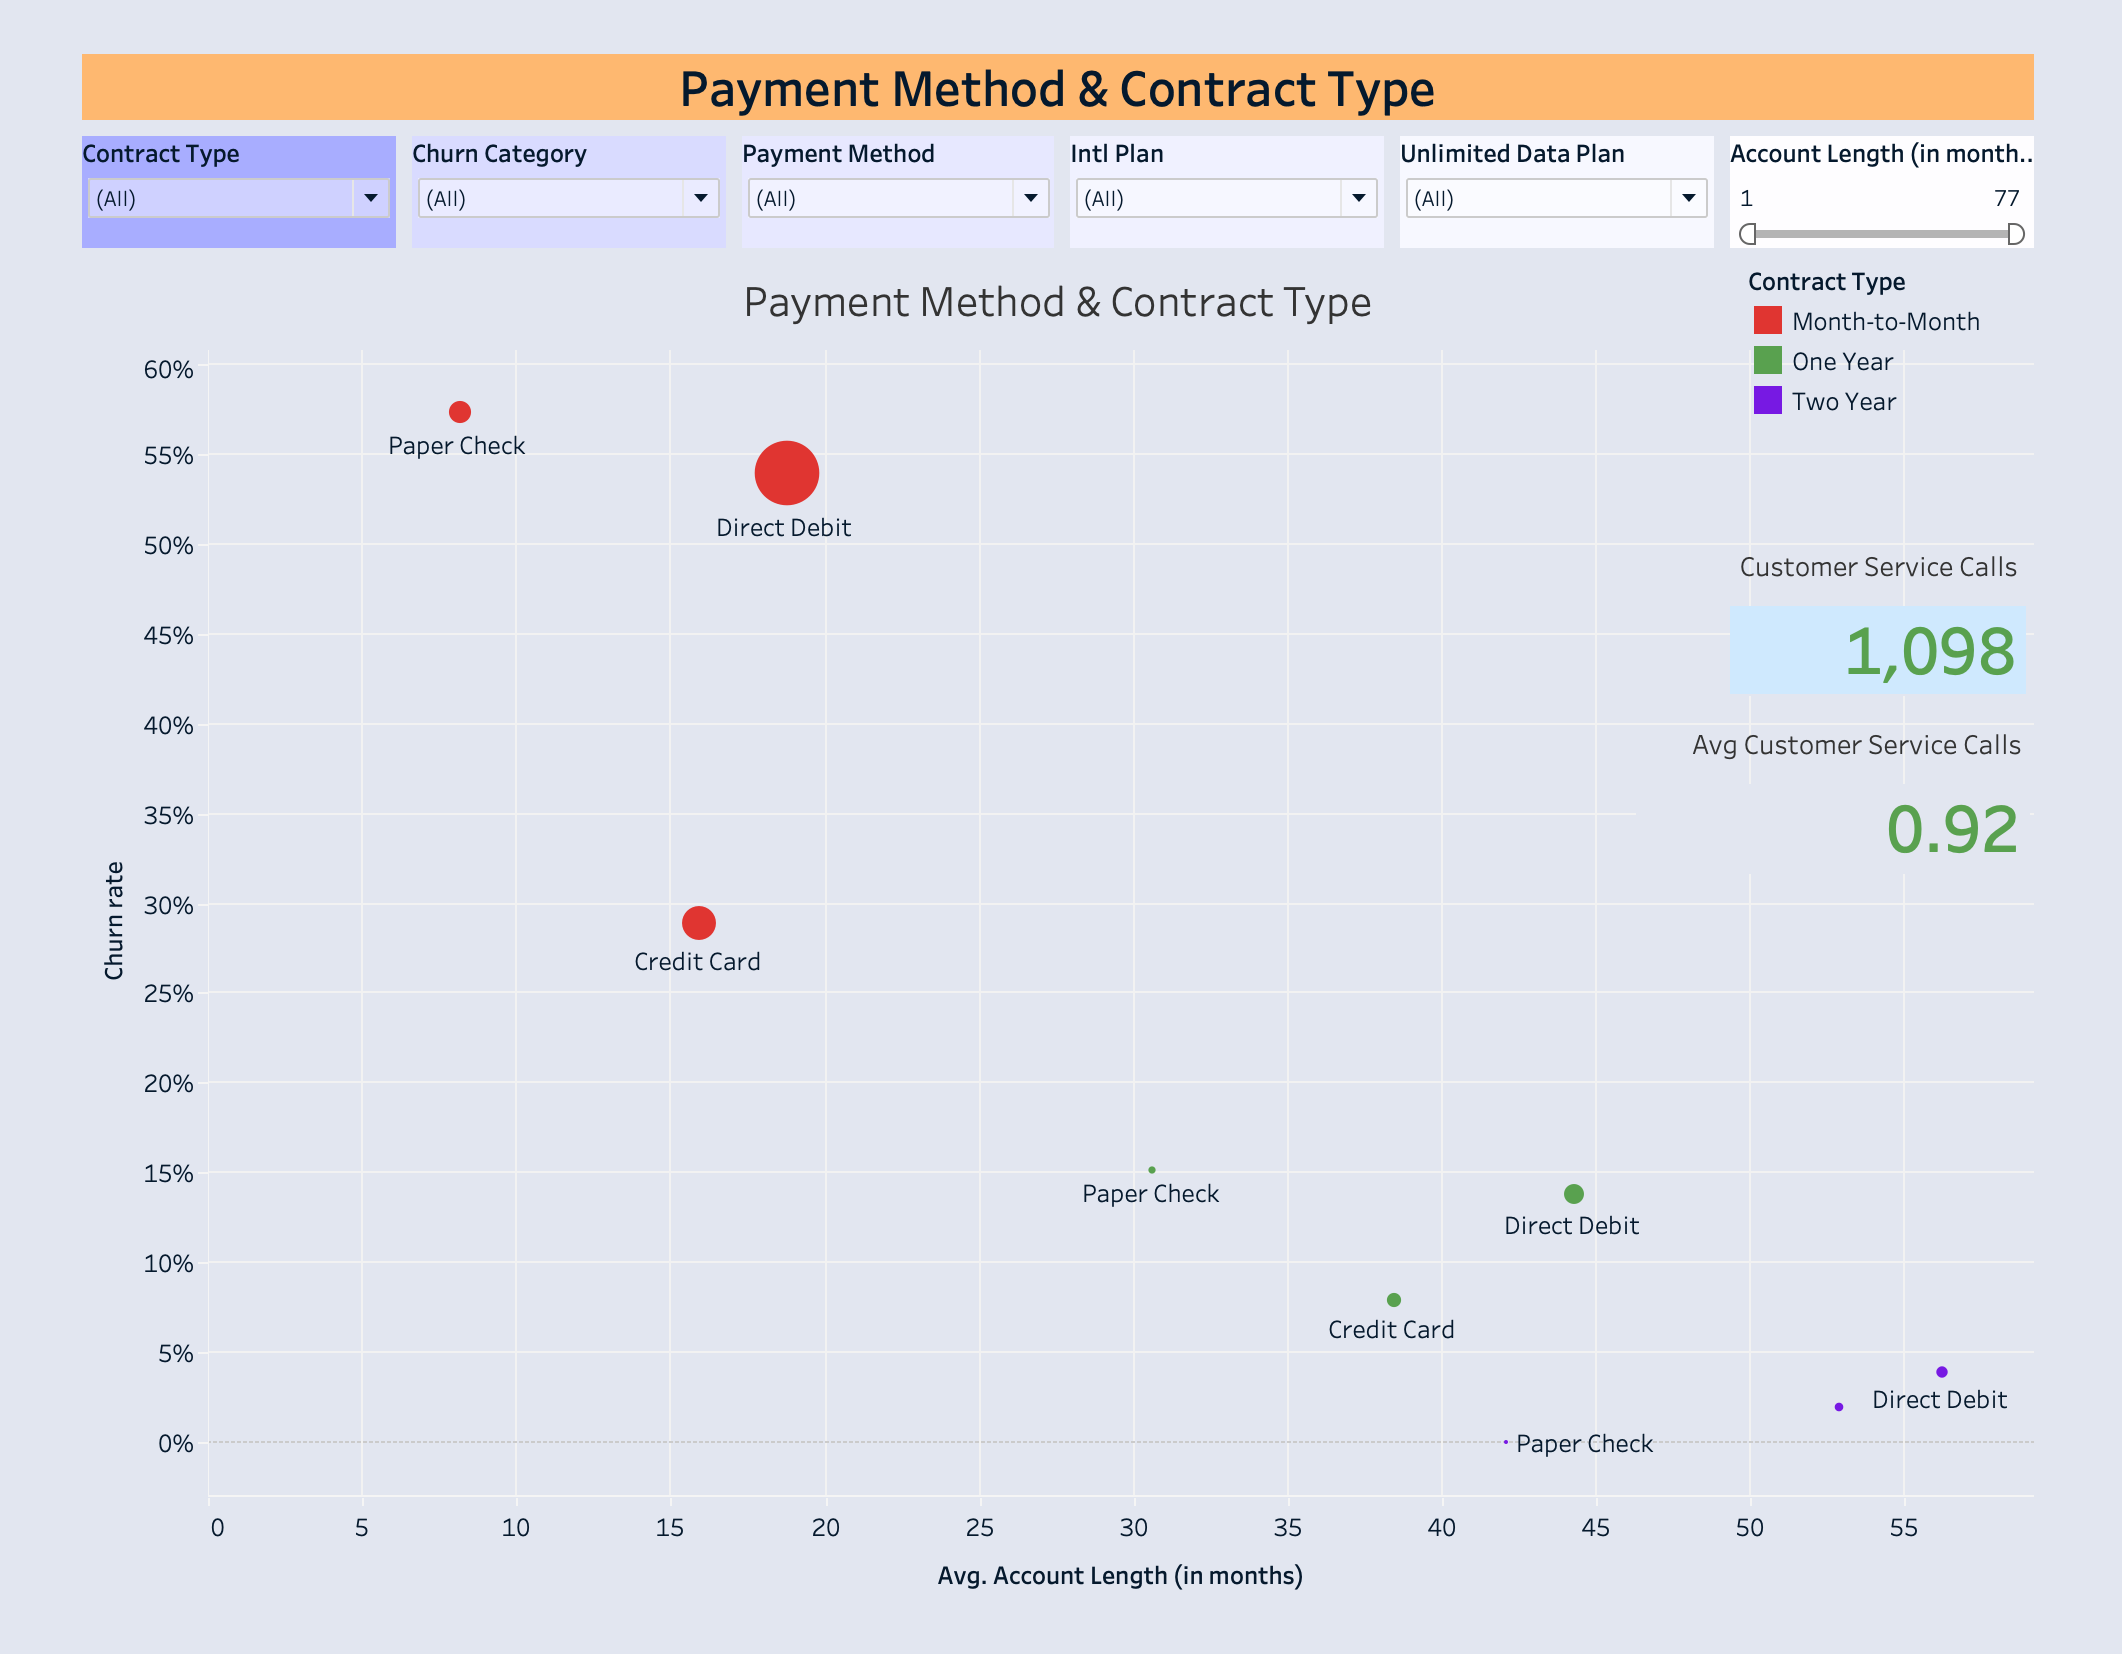

Layout of this report page (visuals, bound fields, positions):
{"tool":"tableau","page":{"name":"Payment Method & Contract Type ","canvas":[1000,800],"ordinal":3},"visuals":[{"type":"title","box":[8,8,984,41]},{"type":"filter","title":"Payment Method & Contract Type","param":"[federated.1559pdh1893exj185r2jq1n05w4m].[none:Contract Type:nk]","box":[8,49,164.8,64]},{"type":"filter","title":"Payment Method & Contract Type","param":"[federated.1559pdh1893exj185r2jq1n05w4m].[none:Churn Category:nk]","box":[172.8,49,164.8,64]},{"type":"filter","title":"Payment Method & Contract Type","param":"[federated.1559pdh1893exj185r2jq1n05w4m].[none:Payment Method:nk]","box":[337.6,49,164.8,64]},{"type":"filter","title":"Payment Method & Contract Type","param":"[federated.1559pdh1893exj185r2jq1n05w4m].[none:Intl Plan:nk]","box":[502.4,49,164.8,64]},{"type":"filter","title":"Payment Method & Contract Type","param":"[federated.1559pdh1893exj185r2jq1n05w4m].[none:Unlimited Data Plan:nk]","box":[667.2,49,164.8,64]},{"type":"filter","title":"Payment Method & Contract Type","param":"[federated.1559pdh1893exj185r2jq1n05w4m].[none:Account Length (in months):qk]","box":[832,49,160,64]},{"type":"worksheet","title":"Payment Method & Contract Type","mark":"Circle","rows":["Calculation_161848126833676291"],"cols":["Account Length (in months)"],"box":[8,113,984,679]},{"type":"legend","title":"Payment Method & Contract Type","param":"[federated.1559pdh1893exj185r2jq1n05w4m].[none:Contract Type:nk]","box":[845,117,140,78]},{"type":"worksheet","title":"Customer Service Calls","mark":"Automatic","box":[836,255,148,95]},{"type":"worksheet","title":"Avg Customer Service Calls","mark":"Automatic","box":[789,344,197,101]}]}

Visuals, with their boxes in screenshot pixels (x1, y1, x2, y2), scaled from the page's 1000x800 canvas onto the 2122x1654 screenshot:
title: (17,17,2105,101)
"Payment Method & Contract Type" filter: (17,101,367,234)
"Payment Method & Contract Type" filter: (367,101,716,234)
"Payment Method & Contract Type" filter: (716,101,1066,234)
"Payment Method & Contract Type" filter: (1066,101,1416,234)
"Payment Method & Contract Type" filter: (1416,101,1766,234)
"Payment Method & Contract Type" filter: (1766,101,2105,234)
"Payment Method & Contract Type" worksheet (Circle marks): (17,234,2105,1637)
"Payment Method & Contract Type" legend: (1793,242,2090,403)
"Customer Service Calls" worksheet: (1774,527,2088,724)
"Avg Customer Service Calls" worksheet: (1674,711,2092,920)
